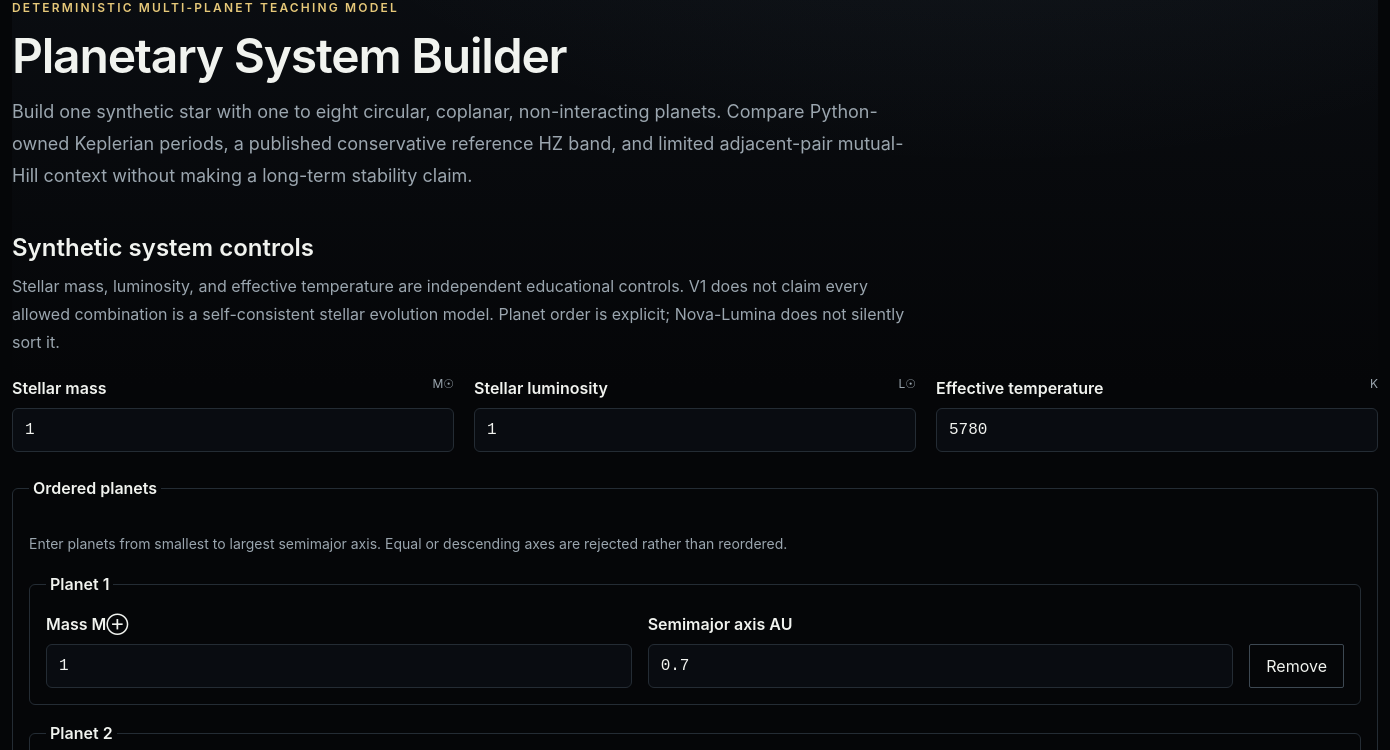
Test: PlanetarySystemBuilderView › rejects invalid ordered drafts locally without an API request
Replace the text in the number field named "Planet 1 semimajor axis AU" with "1" at (940,666), box [648,644,1233,688]
(page scrolled)
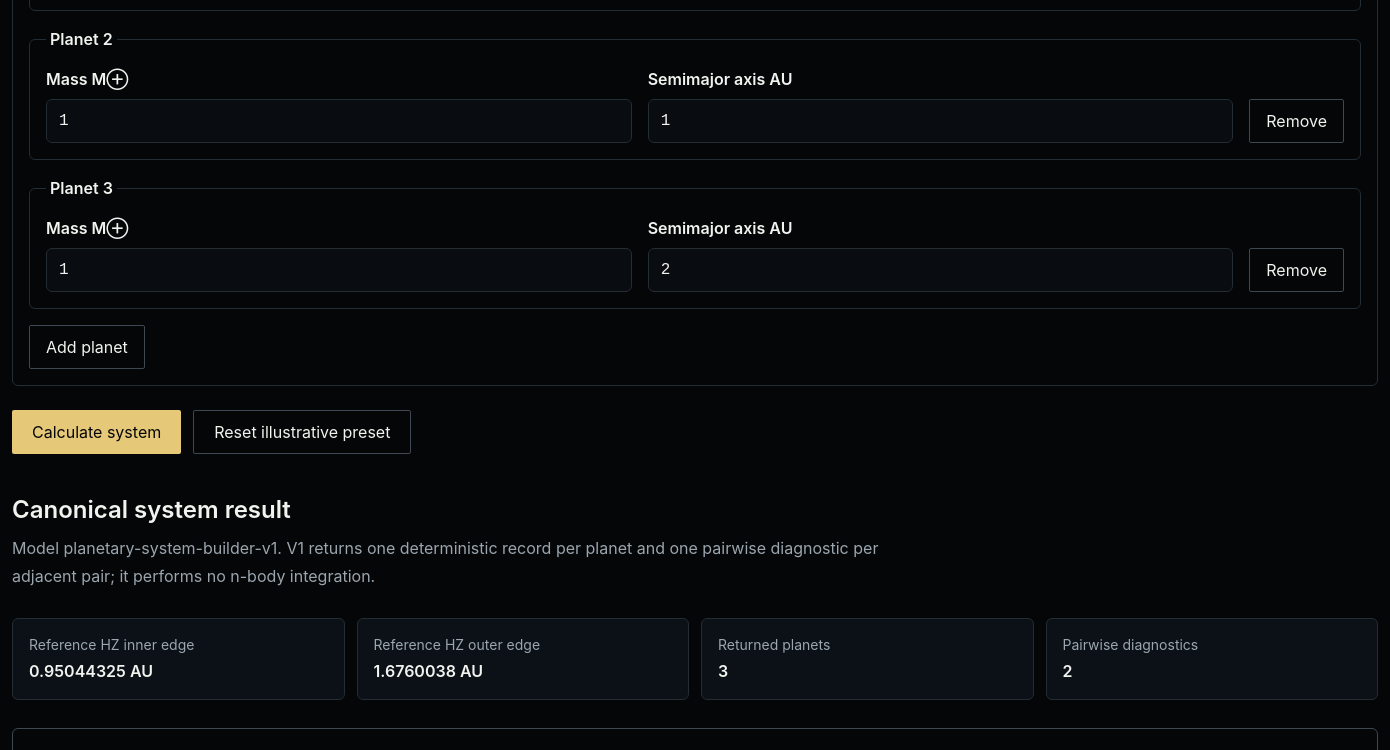
Click the button "Calculate system".
click(97, 432)  # box [12,410,181,454]
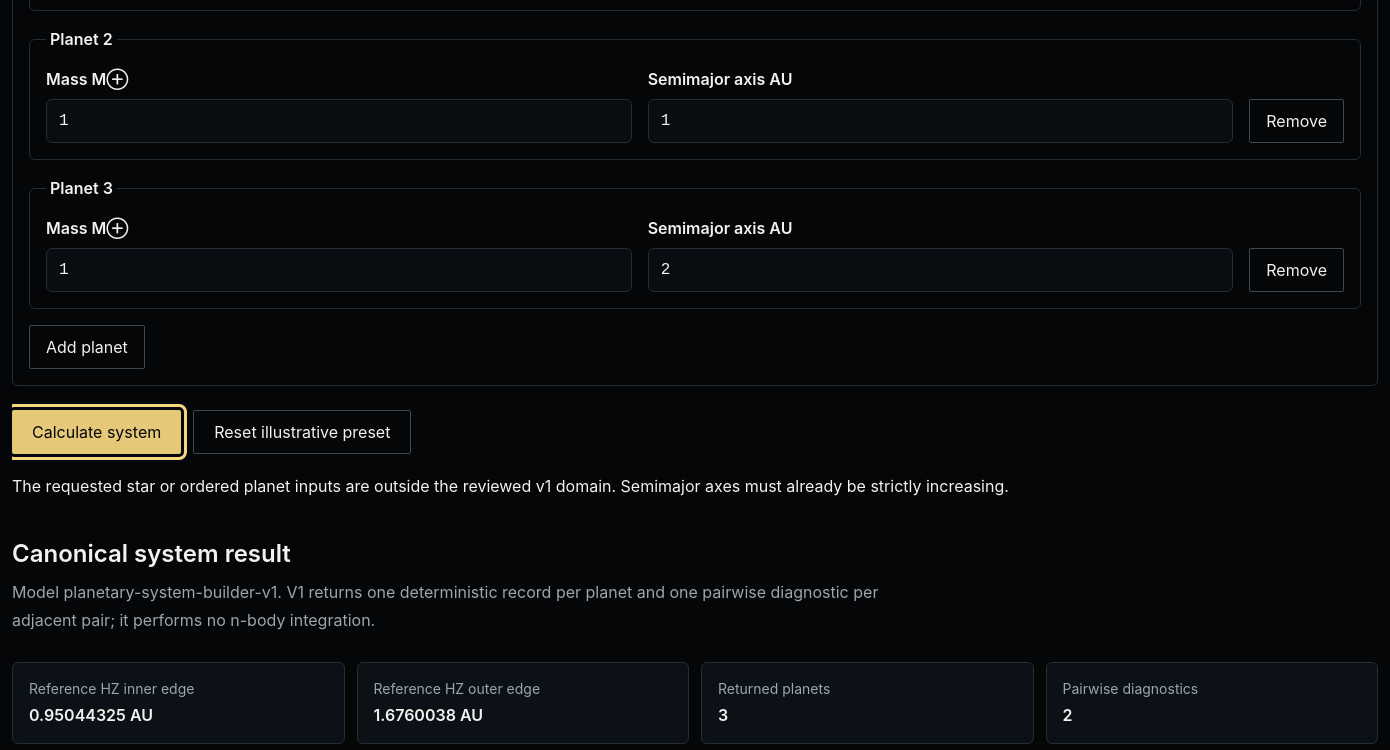
Now the text "Semimajor axes must already be strictly increasing" is shown, box [12,476,1009,496]
